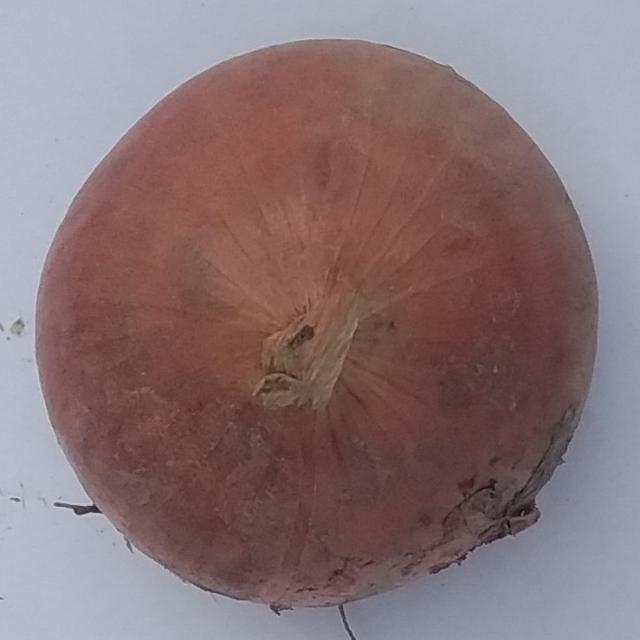onion: (35, 39, 599, 615)
